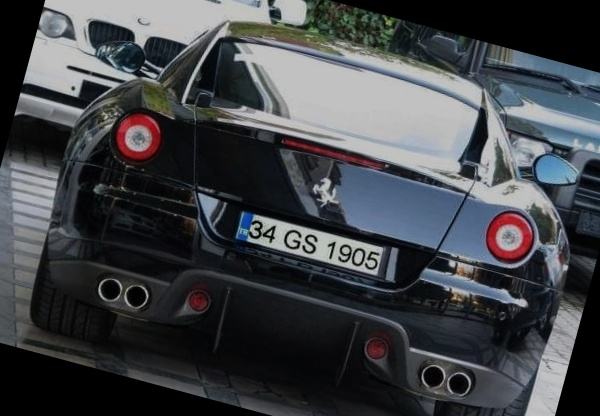plaka: (248, 210, 383, 276)
